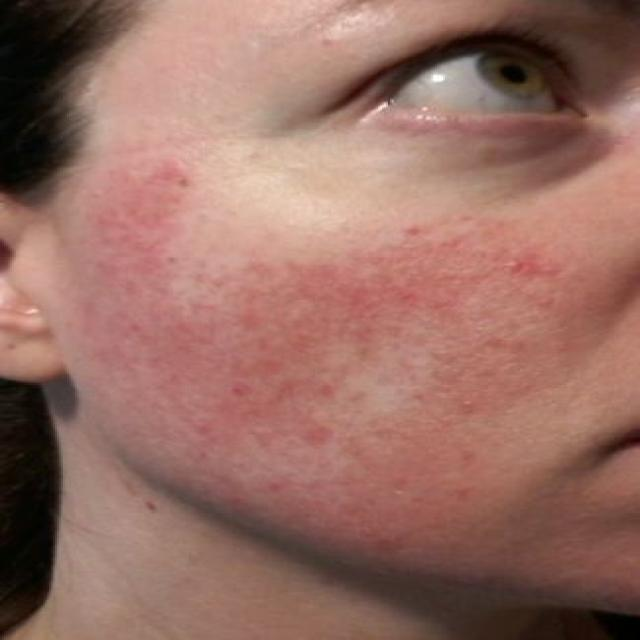Rosacea: (100, 183, 542, 417)
